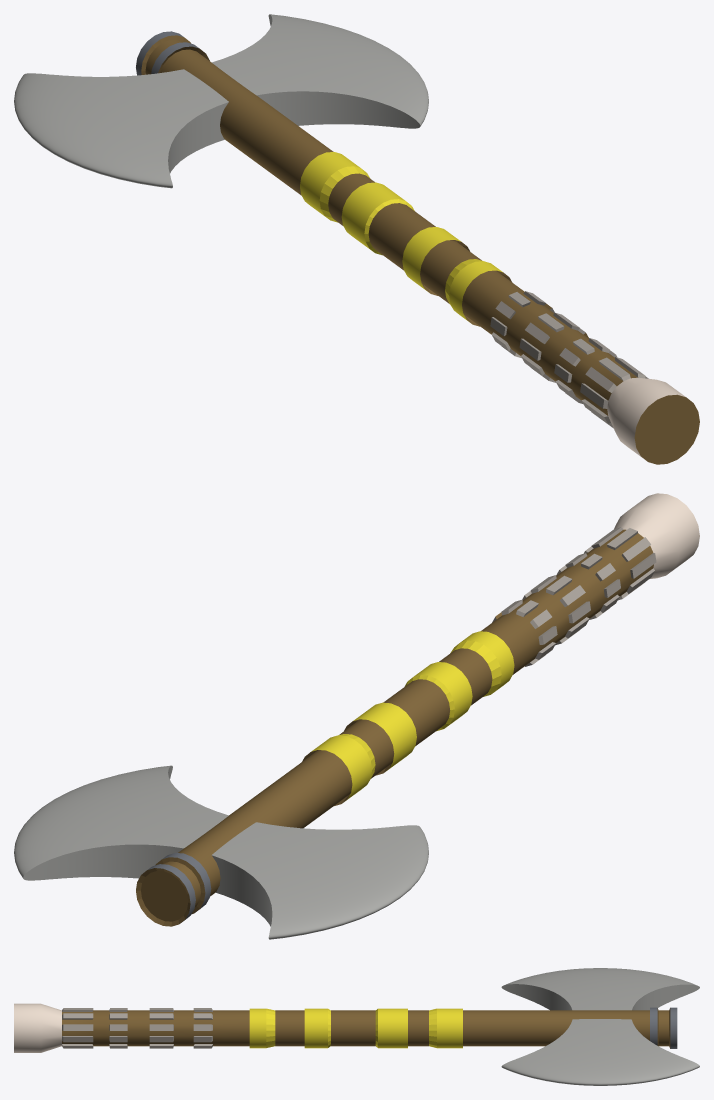
File: Axe.fbx
The picture shows the model from 3 angles, top to bottom: view 1: azimuth 30°, elevation 25°; view 2: azimuth 150°, elevation 25°; view 3: azimuth 270°, elevation 25°; orthographic projection. The views are drawn at different scales.
Visible parts, largest first — view 1: pCylinder5; view 2: pCylinder5; view 3: pCylinder5.
Boxes of the visible parts, <box> form: pCylinder5: <box>14,14,699,464</box>; pCylinder5: <box>14,493,699,939</box>; pCylinder5: <box>14,968,699,1085</box>.
Bounding box in the file's own units: 7.43 × 1.35 × 18.67.
